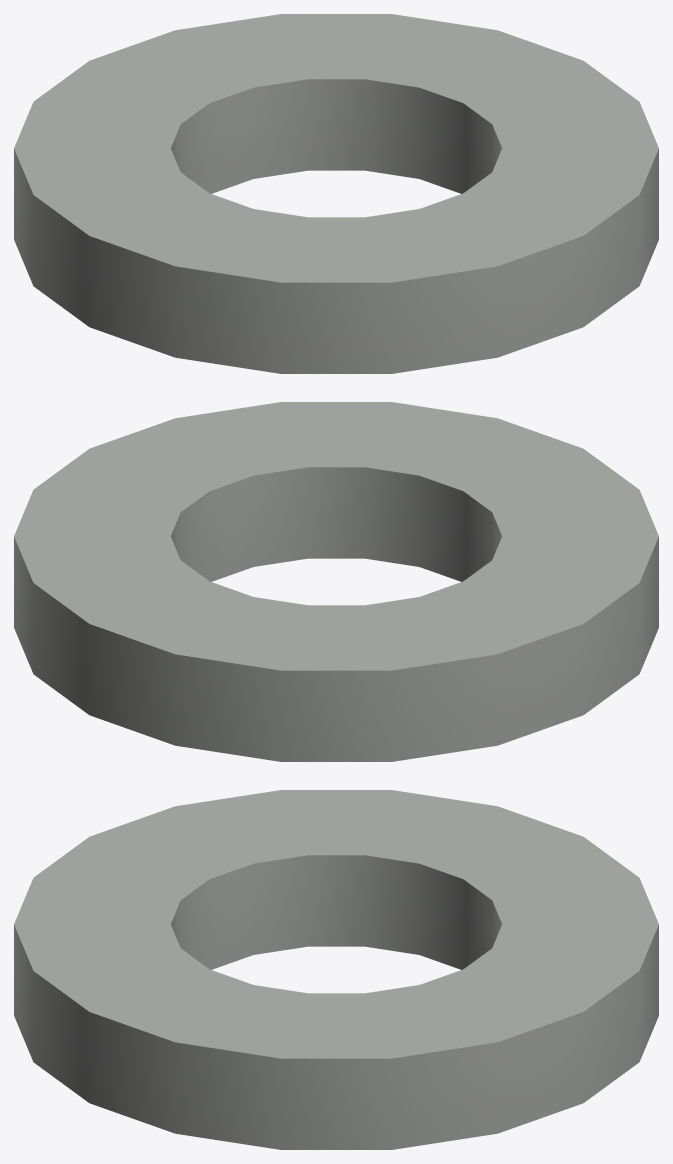
The picture shows the model from 3 angles, top to bottom: view 1: azimuth 30°, elevation 25°; view 2: azimuth 150°, elevation 25°; view 3: azimuth 270°, elevation 25°; orthographic projection.
Parts seen in each view (by area): view 1: Tube_D; view 2: Tube_D; view 3: Tube_D.
Part boxes in pixels (x1,y1,x2,y2): Tube_D: (14, 14, 658, 373); Tube_D: (14, 402, 658, 761); Tube_D: (14, 790, 658, 1149).
Bounding box in the file's own units: 179 × 28.38 × 182.
